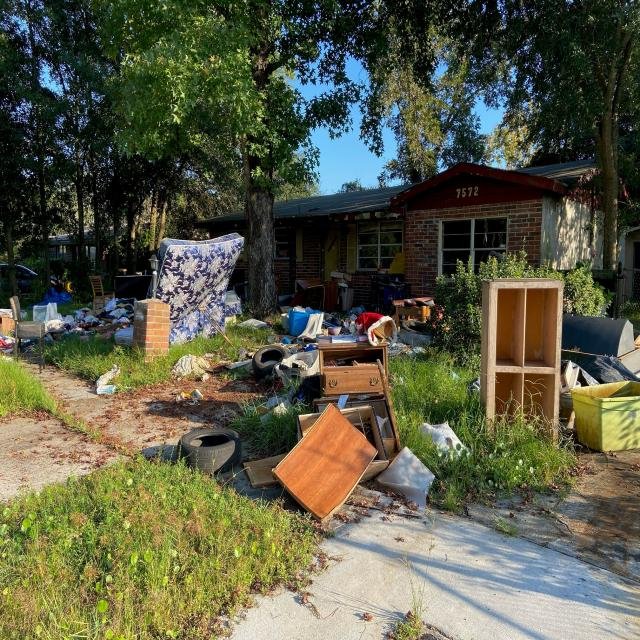House: (186, 162, 635, 309)
